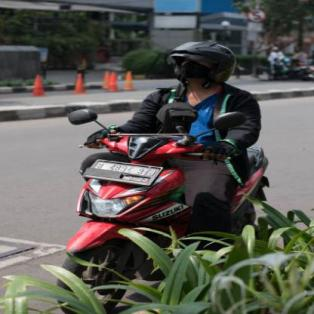Motocicleta: (54, 110, 272, 284)
